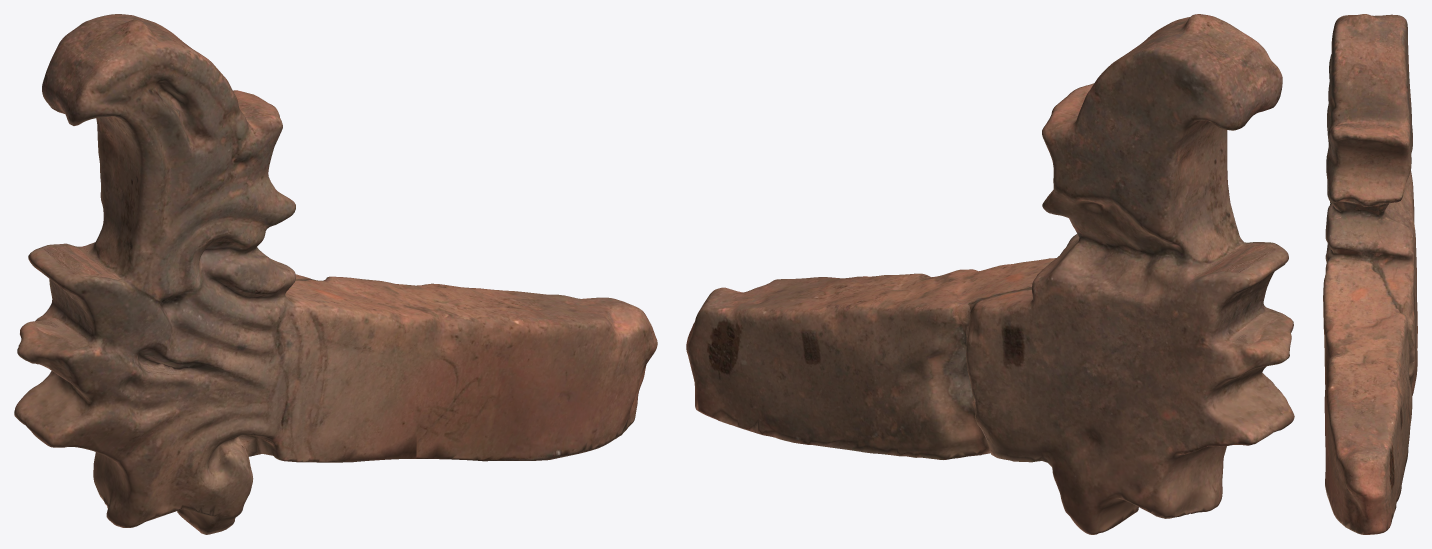
File: MysonMuseum_hoavanhoaco_final.glb
3 views of the same model, side by side, from view 1: azimuth 30°, elevation 25°; view 2: azimuth 150°, elevation 25°; view 3: azimuth 270°, elevation 25° (orthographic). The views are drawn at different scales.
Bounding box in the file's own units: 0.3411 × 0.2754 × 0.0656.
1 material, 1 textured.
